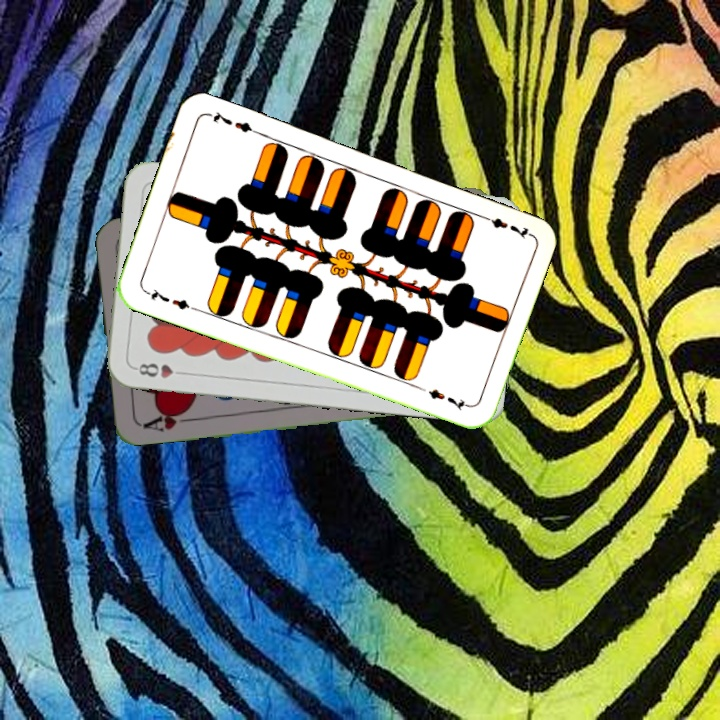E7: (475, 210, 532, 241), (141, 284, 198, 313)
H8: (130, 359, 189, 381)
HA: (136, 405, 195, 435)
